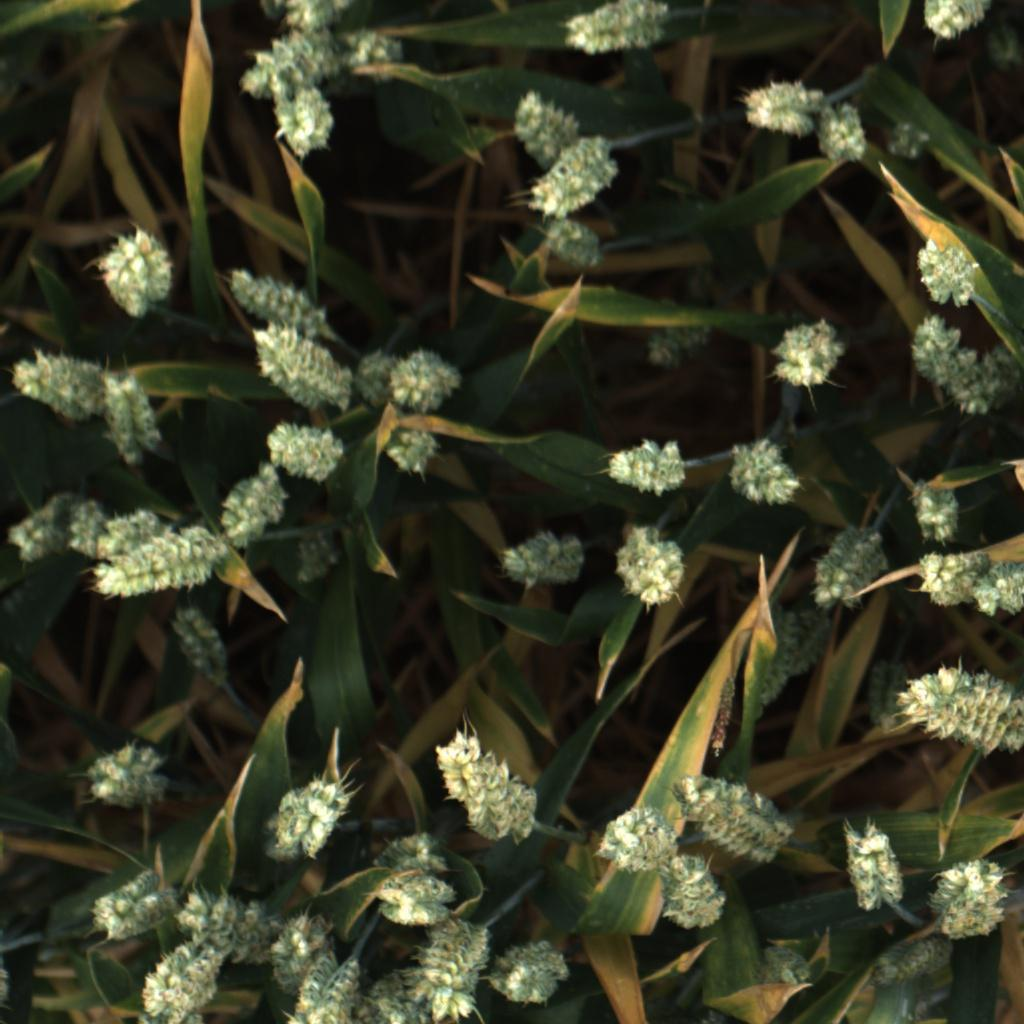0-0: (902, 650, 1024, 758), (673, 766, 790, 863), (94, 530, 224, 608), (741, 607, 833, 717), (244, 325, 350, 413), (237, 31, 356, 105), (224, 256, 339, 332), (349, 346, 465, 418), (173, 865, 258, 961), (526, 135, 624, 217), (262, 777, 350, 862), (96, 221, 172, 317), (12, 344, 103, 424), (420, 920, 491, 1021), (804, 526, 883, 616), (469, 755, 542, 852), (614, 523, 693, 612), (265, 908, 336, 1005), (932, 853, 1020, 931), (554, 0, 672, 58), (87, 866, 174, 942), (141, 942, 223, 1022), (85, 736, 167, 815), (724, 434, 806, 512), (656, 849, 731, 933), (96, 368, 160, 465), (734, 76, 830, 140), (840, 820, 907, 911), (259, 411, 348, 479), (216, 460, 284, 547), (768, 319, 841, 395), (507, 83, 585, 154), (905, 313, 972, 394), (166, 605, 232, 687), (950, 346, 1024, 419), (601, 797, 677, 868), (340, 19, 417, 88), (600, 437, 684, 500), (497, 935, 570, 1007), (915, 236, 988, 306), (273, 78, 335, 160), (356, 962, 438, 1024), (366, 874, 457, 929), (497, 533, 583, 589), (867, 933, 955, 986), (435, 725, 490, 807), (912, 551, 983, 614), (284, 965, 359, 1024), (373, 823, 448, 881), (92, 503, 163, 564), (538, 212, 608, 272), (905, 476, 965, 546), (811, 104, 873, 171), (859, 655, 912, 728), (640, 322, 714, 374), (57, 488, 105, 565), (914, 0, 995, 45), (7, 494, 53, 566), (969, 563, 1024, 621), (757, 932, 813, 987), (384, 427, 441, 479), (293, 527, 340, 587), (975, 16, 1024, 73), (269, 0, 359, 30), (890, 118, 933, 158)
